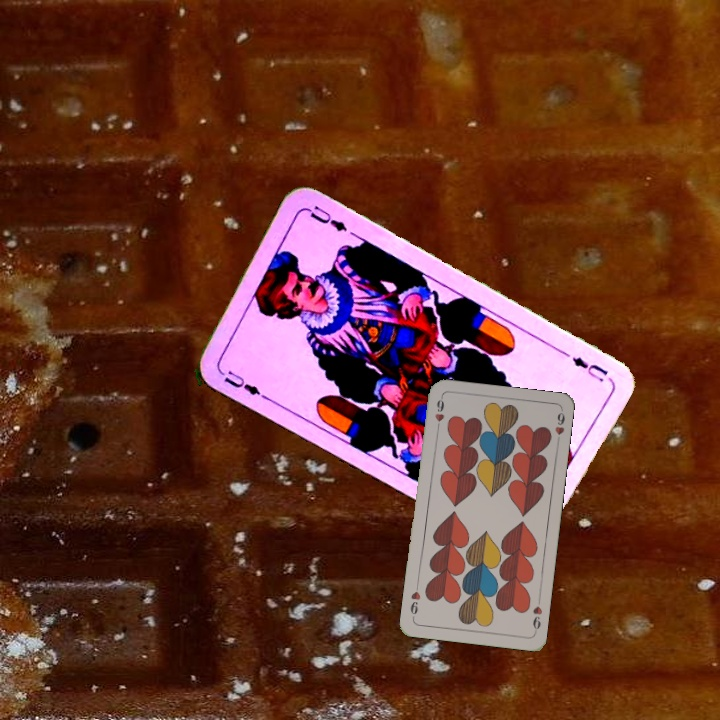EU: (220, 366, 270, 402), (567, 352, 611, 383)
H9: (431, 393, 447, 434), (529, 595, 545, 635)
